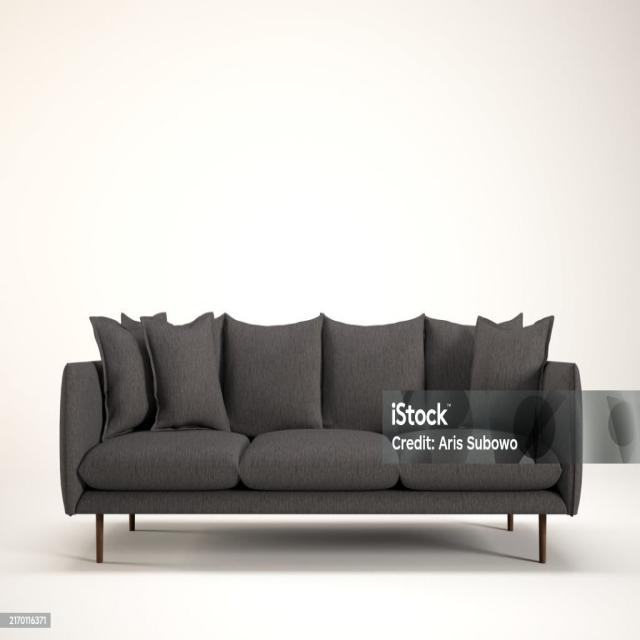back_cushion: (221, 314, 475, 437)
base: (79, 488, 564, 514)
left_arm: (536, 362, 582, 514)
legs: (536, 515, 548, 563), (95, 515, 104, 562), (128, 513, 136, 530), (506, 514, 514, 530)
right_arm: (59, 361, 102, 514)
seat_cushion: (80, 429, 560, 490)
stallion-sofa: (0, 0, 639, 639)
